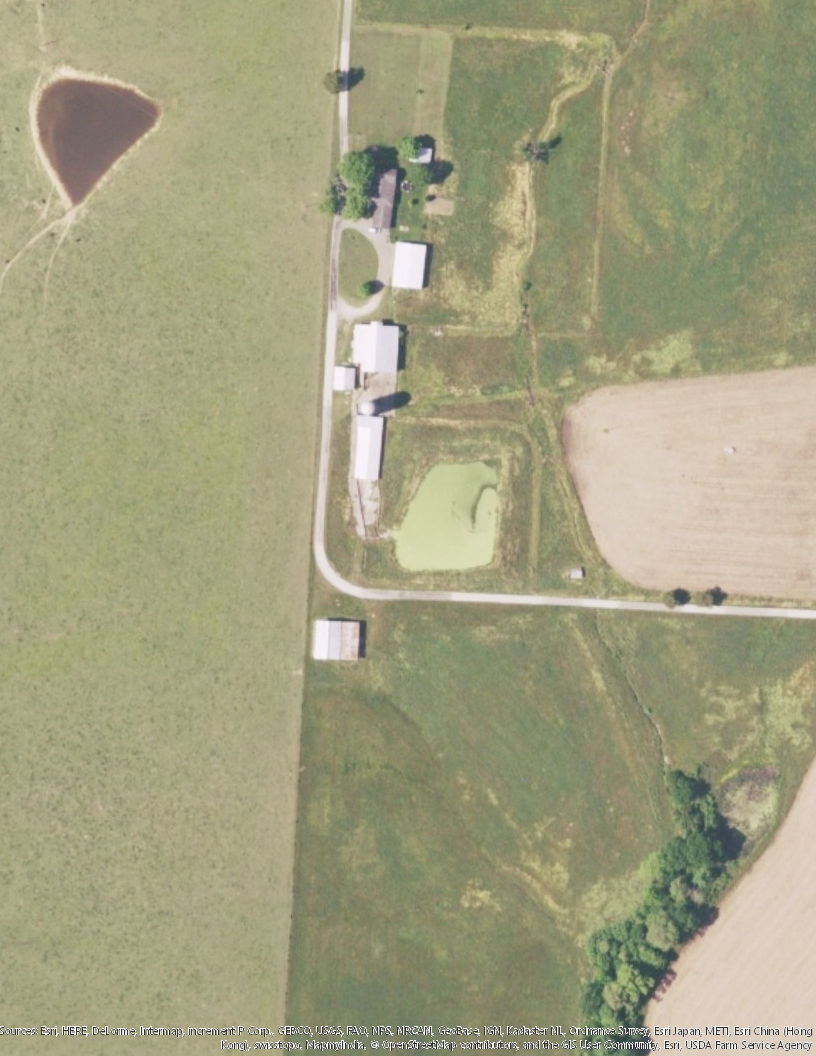cafo: (345, 315, 407, 378), (305, 612, 369, 664), (353, 396, 387, 487)
